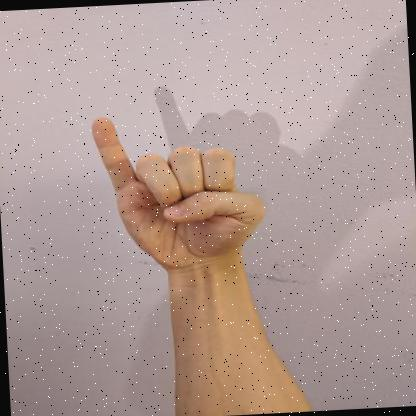I: (91, 117, 265, 270)
